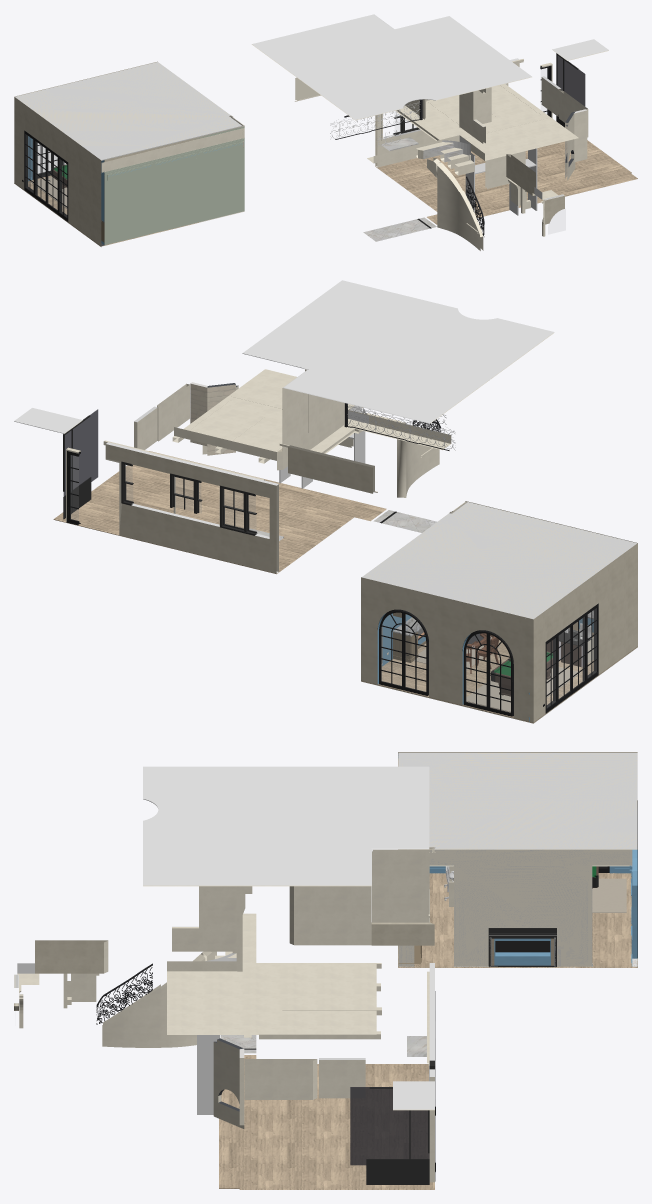
File: game-room-cd5a88751450.glb
3 renders of one model, top to bottom at view 1: azimuth 30°, elevation 25°; view 2: azimuth 150°, elevation 25°; view 3: azimuth 270°, elevation 25°, orthographic. The views are drawn at different scales.
Visible parts, largest first — view 1: game-room-look-9d91b47435c6fb33, game-room-4a969f5cc1ae3dfe, game-room-30c5953c9ad73e5d, game-room-look-3b0077416469e01b, game-room-look-2575515a05775d9e, game-room-039192b0560cfac3, game-room-50d54560d247b537, game-room-look-8c6a7019fd0063e7, game-room-2575515a05775d9e, game-room-f4800b31bfeb29e4, game-room-look-bfb9fa537cd11d1d, game-room-look-cbd4bf73d9724a66 (+19 smaller); view 2: game-room-look-9d91b47435c6fb33, game-room-4a969f5cc1ae3dfe, game-room-look-3b0077416469e01b, game-room-969b861f9850351e, game-room-look-bfb9fa537cd11d1d, game-room-039192b0560cfac3, game-room-look-2575515a05775d9e, game-room-50d54560d247b537, game-room-3b0077416469e01b, game-room-look-245f595ae2832e16, game-room-ebdc05650cf31826, game-room-ca241f91fd698c40 (+23 smaller); view 3: game-room-look-9d91b47435c6fb33, game-room-4a969f5cc1ae3dfe, game-room-look-3b0077416469e01b, game-room-3e6709f91b43c3bf, game-room-look-2575515a05775d9e, game-room-50d54560d247b537, game-room-55ff1dfd7b659ec1, game-room-3b0077416469e01b, game-room-look-69af8f587252f9fa, game-room-look-cbd4bf73d9724a66, game-room-look-32b959c9aa406288, game-room-look-8c6a7019fd0063e7 (+20 smaller).
Part boxes in pixels (<box>): game-room-look-9d91b47435c6fb33: <box>251,14,531,120</box>; game-room-4a969f5cc1ae3dfe: <box>14,62,242,160</box>; game-room-30c5953c9ad73e5d: <box>104,126,244,245</box>; game-room-look-3b0077416469e01b: <box>375,140,637,224</box>; game-room-look-2575515a05775d9e: <box>367,84,578,163</box>; game-room-039192b0560cfac3: <box>14,97,104,246</box>; game-room-50d54560d247b537: <box>14,61,243,160</box>; game-room-look-8c6a7019fd0063e7: <box>427,157,483,250</box>; game-room-2575515a05775d9e: <box>101,128,244,172</box>; game-room-f4800b31bfeb29e4: <box>24,130,68,221</box>; game-room-look-bfb9fa537cd11d1d: <box>375,58,519,167</box>; game-room-look-cbd4bf73d9724a66: <box>557,55,585,106</box>; game-room-look-9d91b47435c6fb33: <box>242,280,554,423</box>; game-room-4a969f5cc1ae3dfe: <box>361,502,637,619</box>; game-room-look-3b0077416469e01b: <box>53,451,386,574</box>; game-room-969b861f9850351e: <box>361,578,529,721</box>; game-room-look-bfb9fa537cd11d1d: <box>105,442,278,573</box>; game-room-039192b0560cfac3: <box>529,544,637,722</box>; game-room-look-2575515a05775d9e: <box>174,369,451,460</box>; game-room-50d54560d247b537: <box>361,502,637,619</box>; game-room-3b0077416469e01b: <box>361,636,637,722</box>; game-room-look-245f595ae2832e16: <box>288,445,374,493</box>; game-room-ebdc05650cf31826: <box>487,632,512,716</box>; game-room-ca241f91fd698c40: <box>403,612,427,695</box>; game-room-look-9d91b47435c6fb33: <box>143,766,429,886</box>; game-room-4a969f5cc1ae3dfe: <box>398,752,637,849</box>; game-room-look-3b0077416469e01b: <box>219,1055,434,1189</box>; game-room-3e6709f91b43c3bf: <box>398,849,632,966</box>; game-room-look-2575515a05775d9e: <box>167,913,376,1034</box>; game-room-50d54560d247b537: <box>398,752,637,849</box>; game-room-55ff1dfd7b659ec1: <box>398,849,631,967</box>; game-room-3b0077416469e01b: <box>398,873,637,967</box>; game-room-look-69af8f587252f9fa: <box>289,886,371,945</box>; game-room-look-cbd4bf73d9724a66: <box>350,1087,429,1165</box>; game-room-look-32b959c9aa406288: <box>372,849,429,922</box>; game-room-look-8c6a7019fd0063e7: <box>102,951,216,1047</box>.
Bounding box in the file's own units: 21.68 × 6.36 × 16.78.
68 materials, 18 textured.
